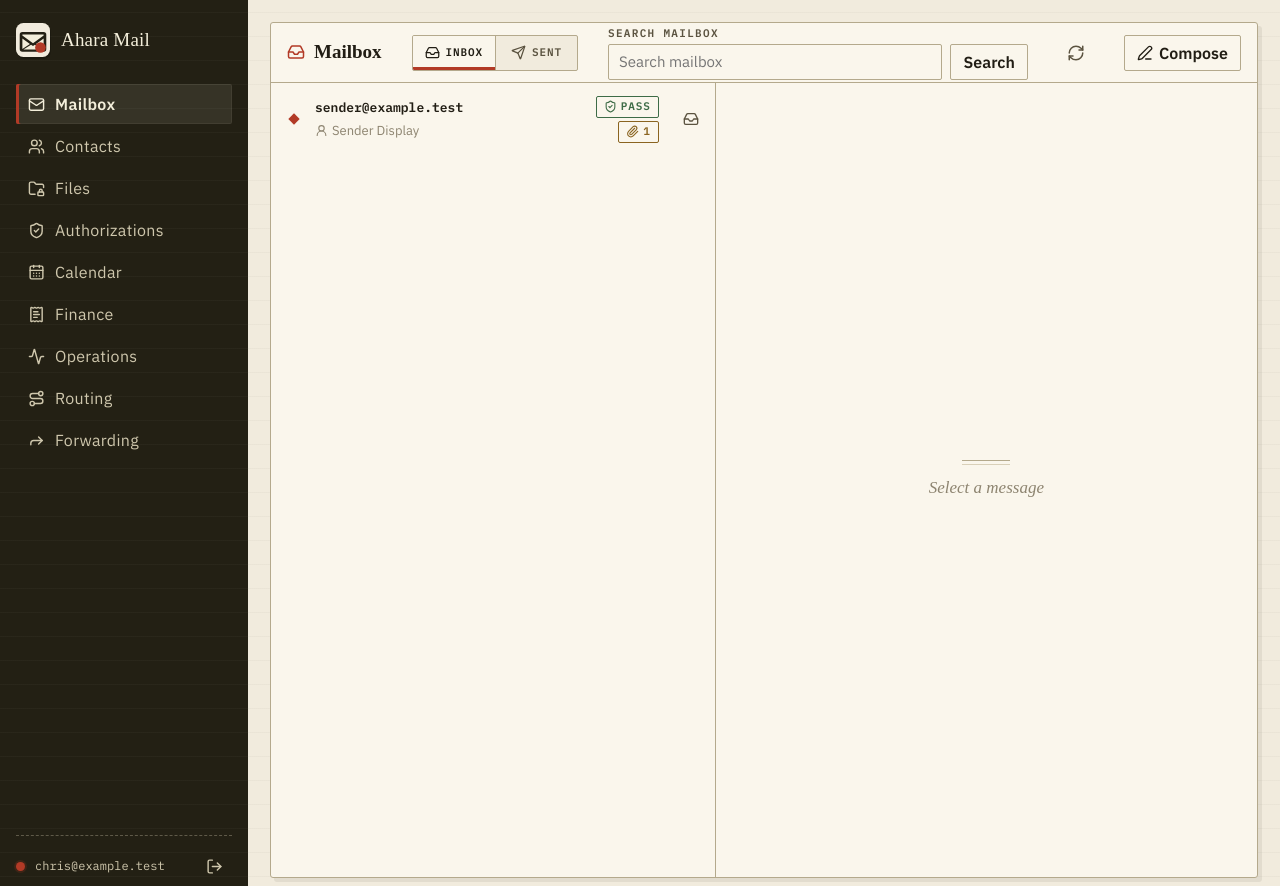
Scenario: App › opens the shared files panel from signed-in navigation
The image size is (1280, 886).
Click the button "Files" at (124, 188), box [16,168,232,208]
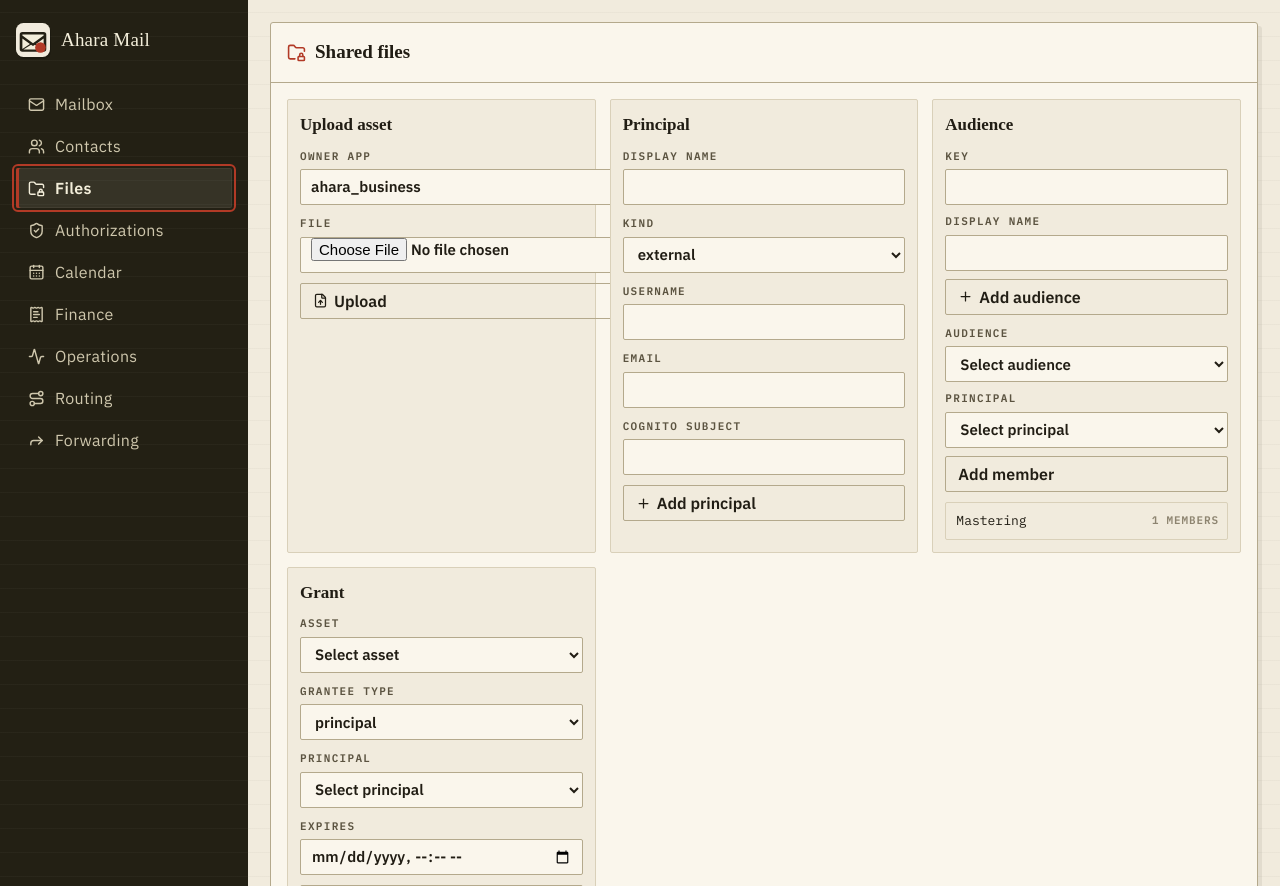
Now the heading "Shared files" is shown, box [315,41,410,64]
